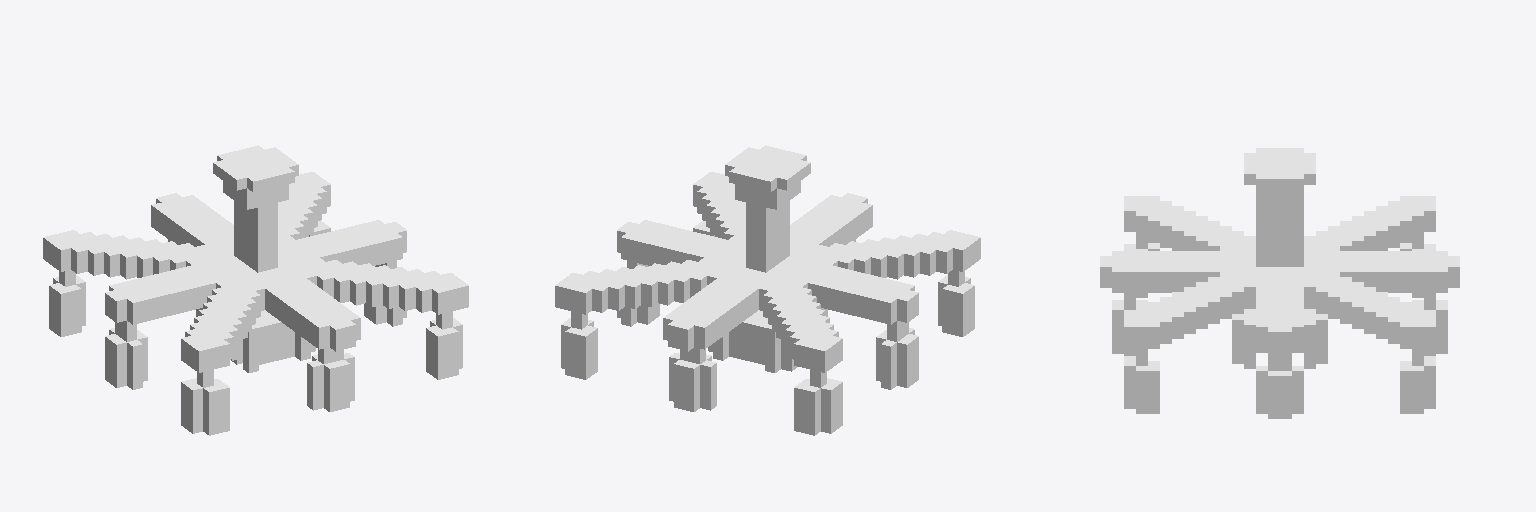
Rendered from lustra.obj.
3 renders of one model, left to right at view 1: azimuth 30°, elevation 25°; view 2: azimuth 150°, elevation 25°; view 3: azimuth 270°, elevation 25°, orthographic.
Parts seen in each view (by area): view 1: object 1; view 2: object 1; view 3: object 1.
Boxes of the visible parts, <box> form: object 1: <box>43,145,468,435</box>; object 1: <box>555,145,980,435</box>; object 1: <box>1100,148,1459,418</box>.
Size of the model in its own units: 2.8 by 1.7 by 3.